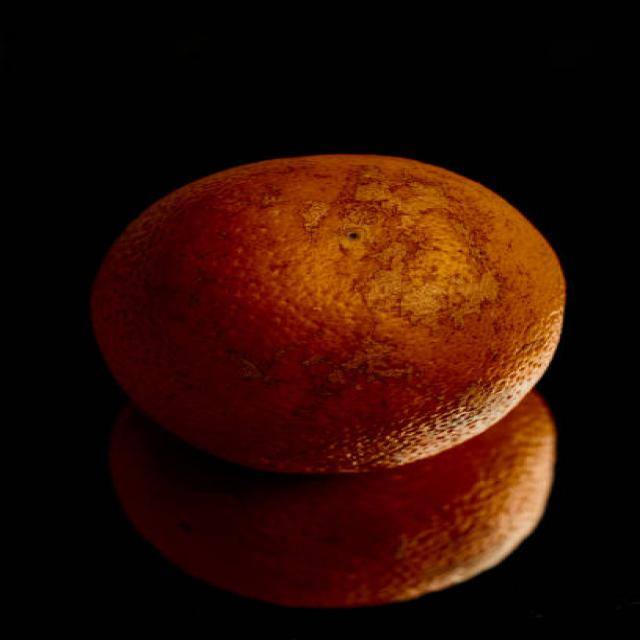overripe: (76, 148, 575, 479)
